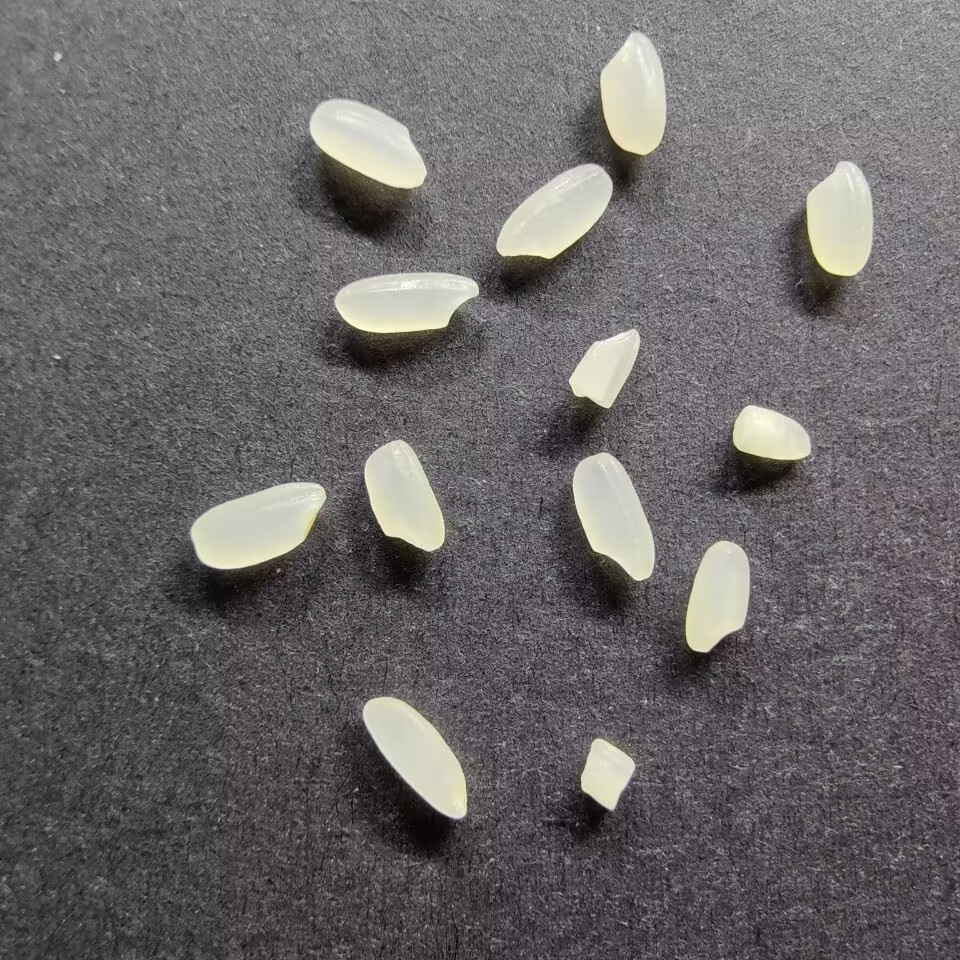broken: (565, 324, 641, 411), (729, 404, 813, 461), (578, 735, 637, 812)
rice: (360, 695, 469, 822), (187, 479, 327, 570), (493, 162, 614, 261), (570, 451, 657, 582), (307, 98, 427, 190), (362, 438, 445, 552), (334, 270, 479, 335), (597, 29, 666, 155), (804, 160, 874, 278), (683, 540, 751, 653)
